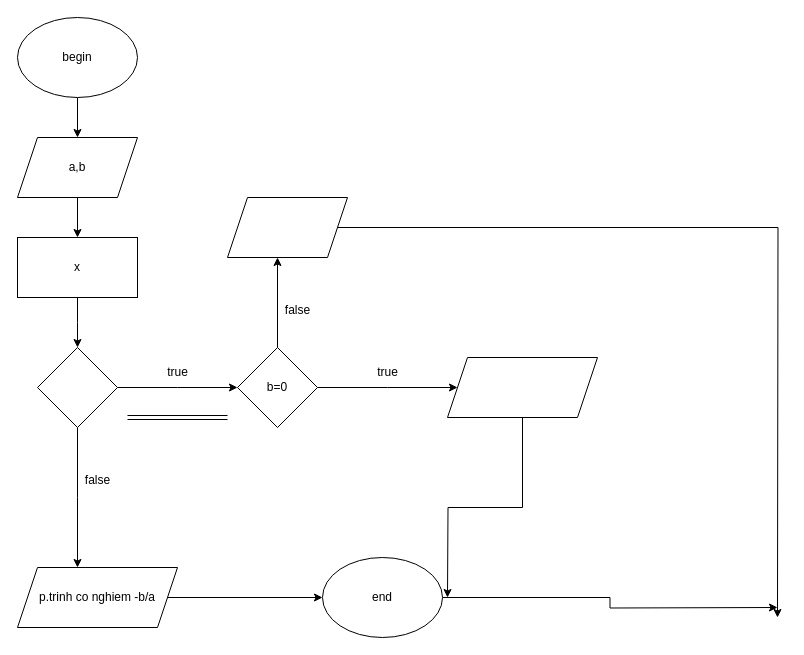
This 804x655 diagram has some shape labels left out. Here are the shapes that lost their labels. From the top down, the centre of each, then its label:
At (287,227): "p.trinh vo ngjiem".
At (77,387): "a=0".
At (522,387): "p.trinh vo so nghiem".
